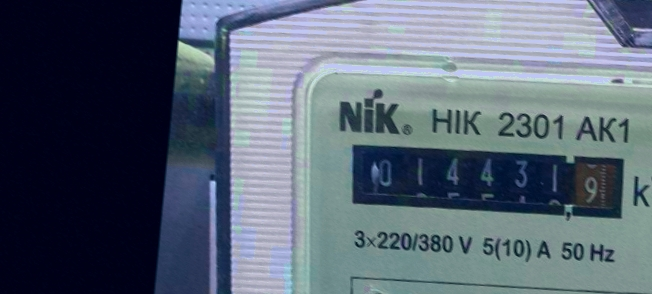0: (374, 156, 397, 190)
1: (410, 154, 431, 189), (547, 162, 563, 195)
3: (510, 158, 532, 192)
4: (441, 154, 465, 189), (476, 154, 497, 190)
9: (580, 173, 600, 206)
screen: (338, 126, 640, 239)
